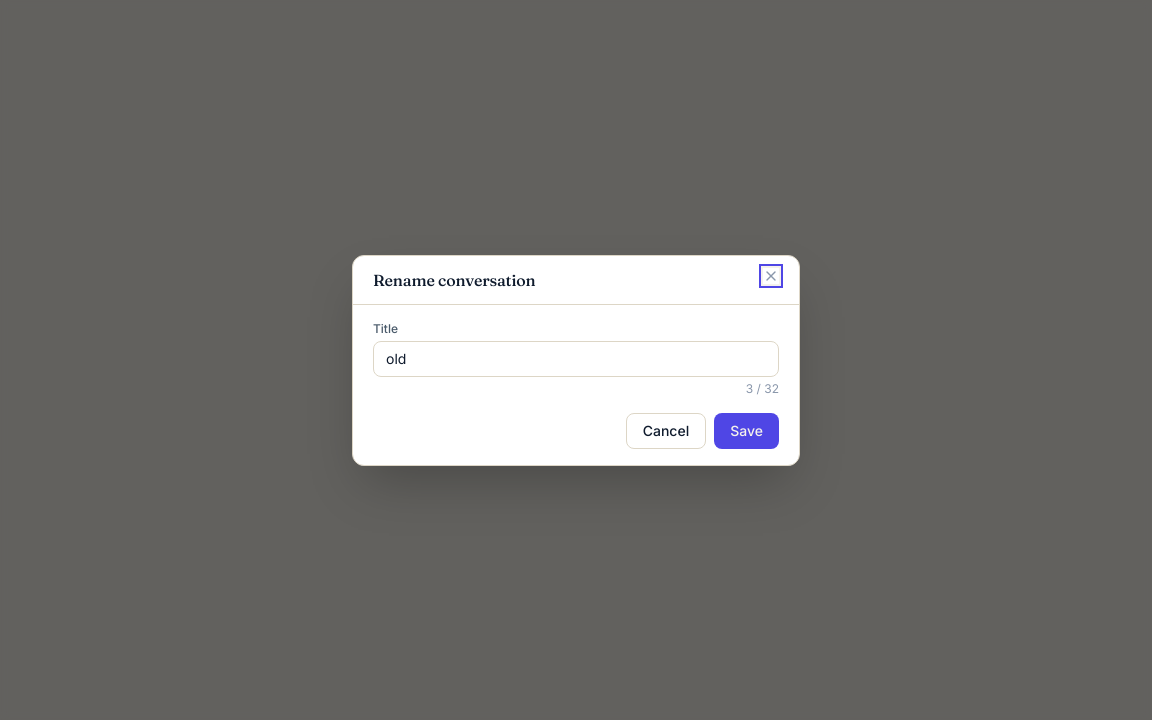
Test case: EditTitleDialog › empty title: Save is disabled
The image size is (1152, 720).
Clear the field labelled "Title": {"x": 576, "y": 358} [373,340,779,376]
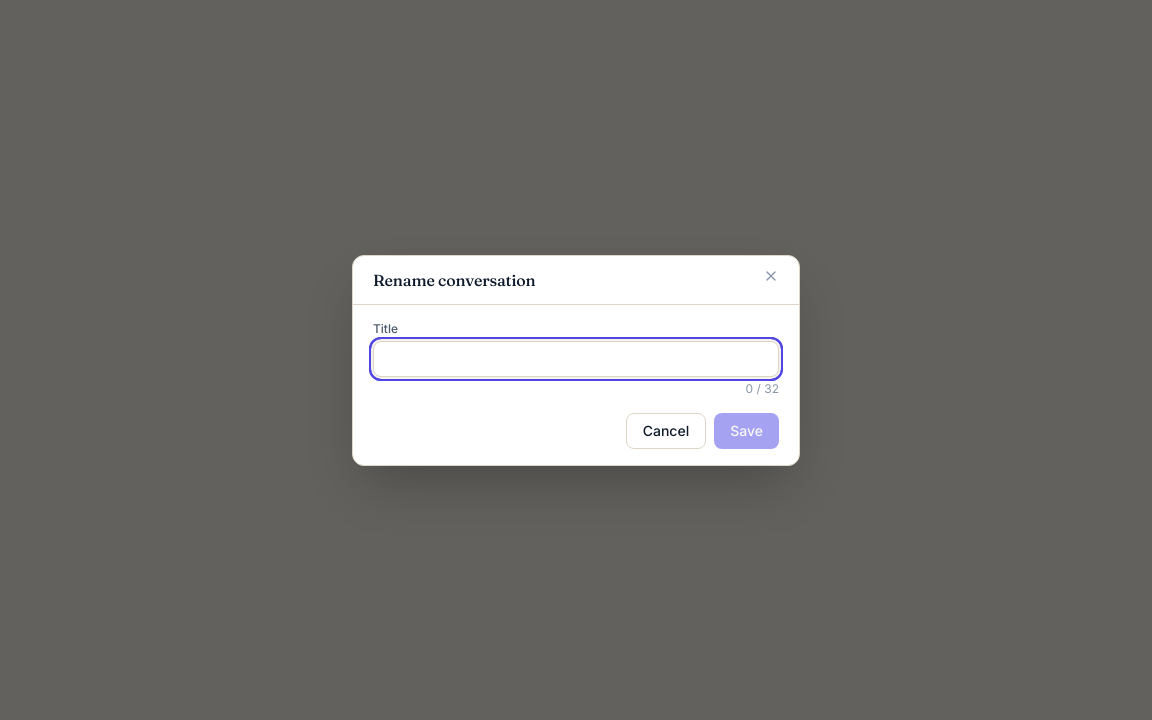
Result: the button "Save" is disabled at [714,412,779,448]
